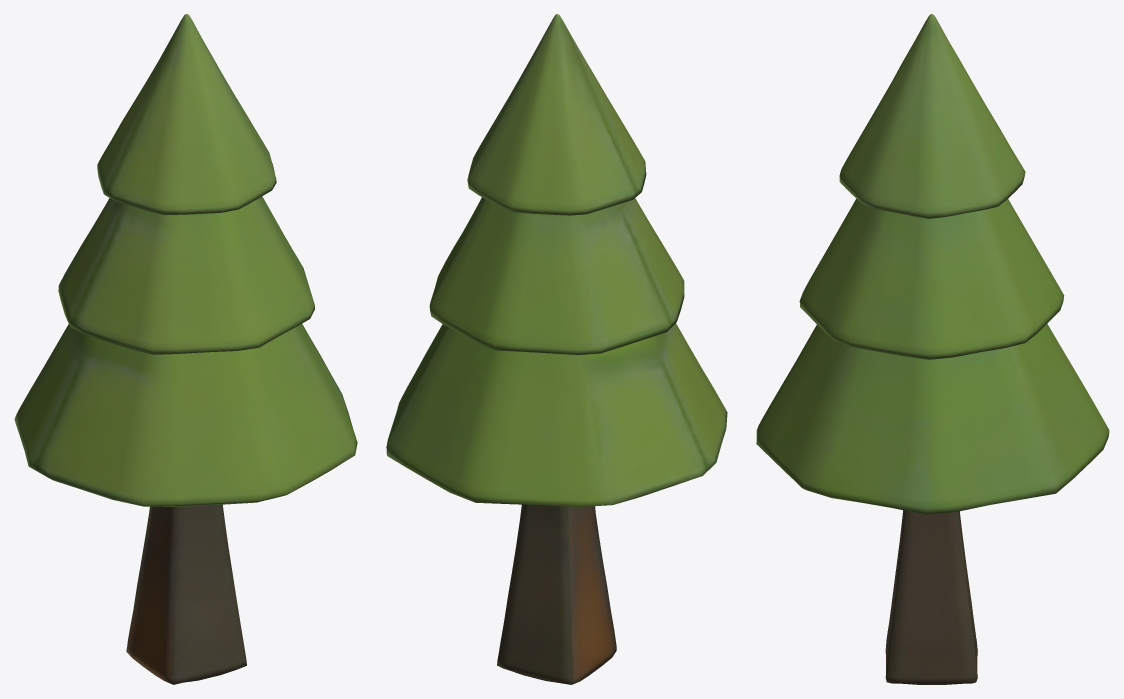
Rendered from tree.glb.
The picture shows the model from 3 angles, left to right: view 1: azimuth 30°, elevation 25°; view 2: azimuth 150°, elevation 25°; view 3: azimuth 270°, elevation 25°; orthographic projection.
Parts seen in each view (by area): view 1: tripo_node_0b5ffe6c-8b7d-4bd9-9420-4f272371a7dc; view 2: tripo_node_0b5ffe6c-8b7d-4bd9-9420-4f272371a7dc; view 3: tripo_node_0b5ffe6c-8b7d-4bd9-9420-4f272371a7dc.
Boxes of the visible parts, x1=… form: tripo_node_0b5ffe6c-8b7d-4bd9-9420-4f272371a7dc: x1=14, y1=14, x2=357, y2=684; tripo_node_0b5ffe6c-8b7d-4bd9-9420-4f272371a7dc: x1=386, y1=14, x2=727, y2=684; tripo_node_0b5ffe6c-8b7d-4bd9-9420-4f272371a7dc: x1=756, y1=14, x2=1109, y2=684.
Size of the model in its own units: 0.4915 by 0.9986 by 0.4895.
Materials: 1 (1 with a texture image).
